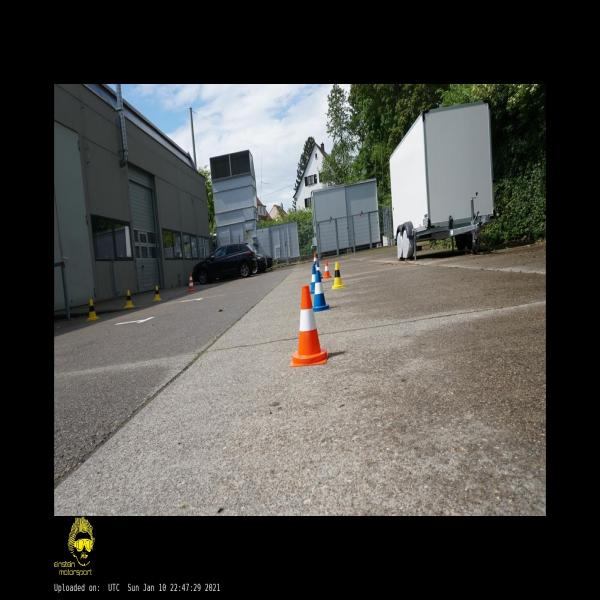blue_cone: (313, 271, 330, 312), (310, 264, 316, 294), (316, 262, 322, 278)
large_orange_cone: (313, 253, 322, 276), (188, 272, 195, 292)
orange_cone: (290, 286, 329, 367), (323, 260, 332, 278)
yellow_cone: (331, 262, 345, 290), (86, 299, 100, 322), (124, 290, 134, 310), (153, 286, 161, 301)
